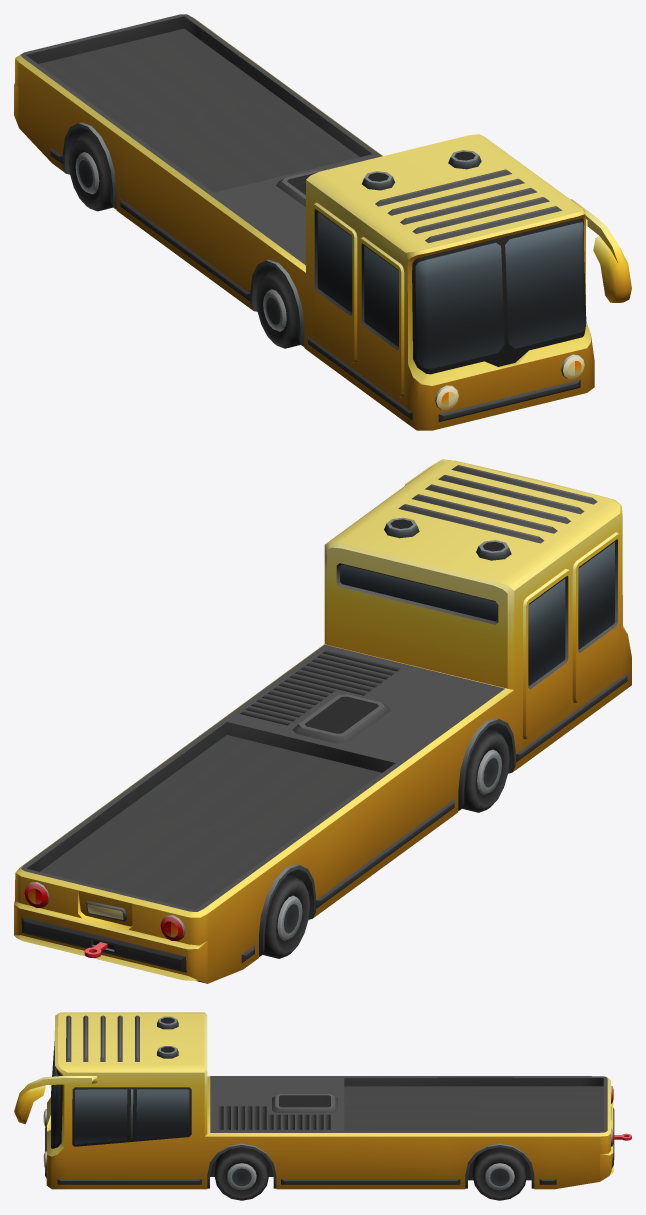
File: Truck_2C.fbx
3 renders of one model, top to bottom at view 1: azimuth 30°, elevation 25°; view 2: azimuth 150°, elevation 25°; view 3: azimuth 270°, elevation 25°, orthographic. The views are drawn at different scales.
Visible parts, largest first — view 1: Truck_2C, Truck_2C_Wheel_F.R, Truck_2C_Wheel_R.R; view 2: Truck_2C, Truck_2C_Wheel_R.R, Truck_2C_Wheel_F.R; view 3: Truck_2C, Truck_2C_Wheel_R.L, Truck_2C_Wheel_F.L.
Boxes of the visible parts, x1=… form: Truck_2C: x1=14, y1=14, x2=631, y2=430; Truck_2C_Wheel_F.R: x1=256, y1=269, x2=300, y2=348; Truck_2C_Wheel_R.R: x1=68, y1=132, x2=113, y2=211; Truck_2C: x1=14, y1=459, x2=631, y2=983; Truck_2C_Wheel_R.R: x1=262, y1=875, x2=309, y2=958; Truck_2C_Wheel_F.R: x1=462, y1=728, x2=509, y2=812; Truck_2C: x1=14, y1=1012, x2=631, y2=1189; Truck_2C_Wheel_R.L: x1=472, y1=1147, x2=526, y2=1200; Truck_2C_Wheel_F.L: x1=214, y1=1147, x2=268, y2=1200.
Bounding box in the file's own units: 306 × 290 × 1199.
